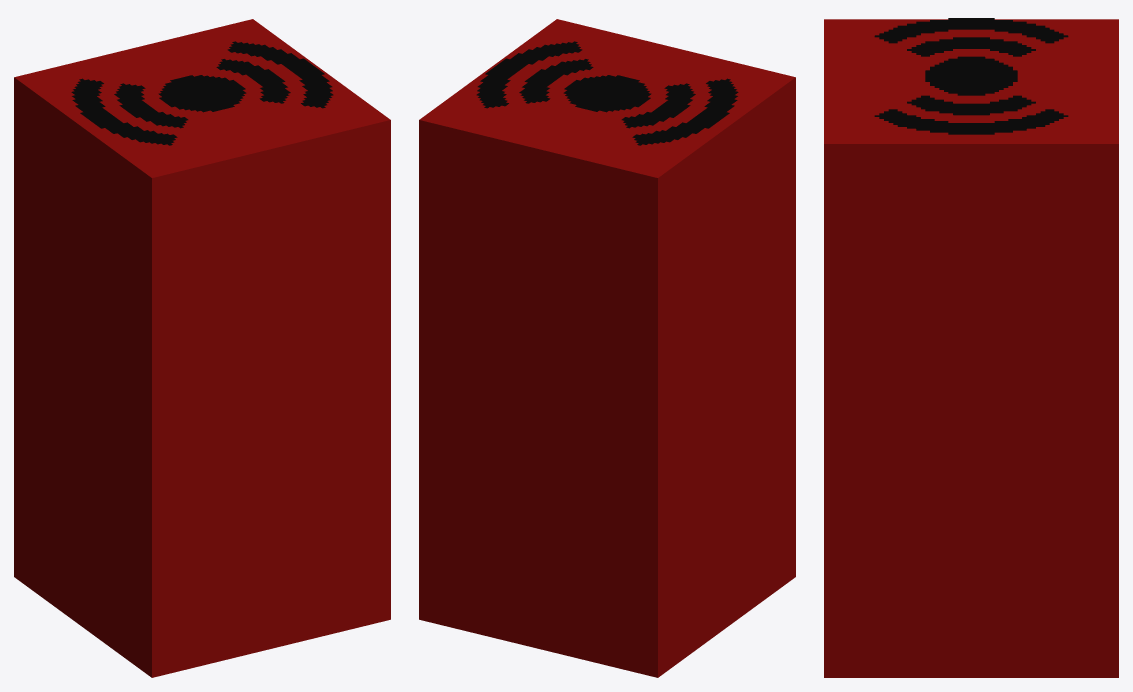
The model's file is antenna.obj.
The picture shows the model from 3 angles, left to right: view 1: azimuth 30°, elevation 25°; view 2: azimuth 150°, elevation 25°; view 3: azimuth 270°, elevation 25°; orthographic projection. The views are drawn at different scales.
Visible parts, largest first — view 1: Antenna1, Antenna2; view 2: Antenna1, Antenna2; view 3: Antenna1, Antenna2.
Part boxes in pixels (box(x1,y1,x2,y2)): Antenna1: box(14, 19, 390, 677); Antenna2: box(71, 41, 333, 145); Antenna1: box(419, 19, 795, 677); Antenna2: box(476, 41, 738, 145); Antenna1: box(824, 19, 1118, 677); Antenna2: box(874, 18, 1068, 134).
Bounding box in the file's own units: 1 × 2.02 × 1.
2 materials, 1 textured.
